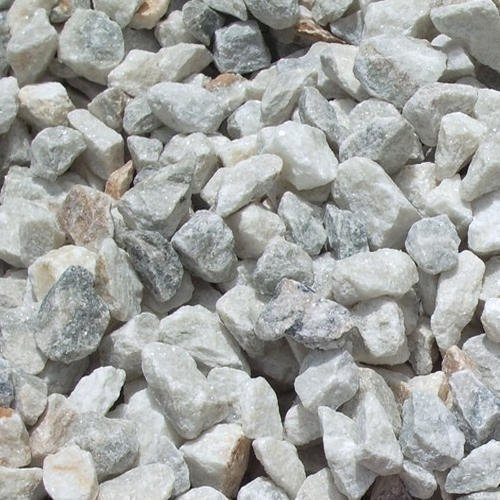obstacle: (0, 0, 499, 479)
